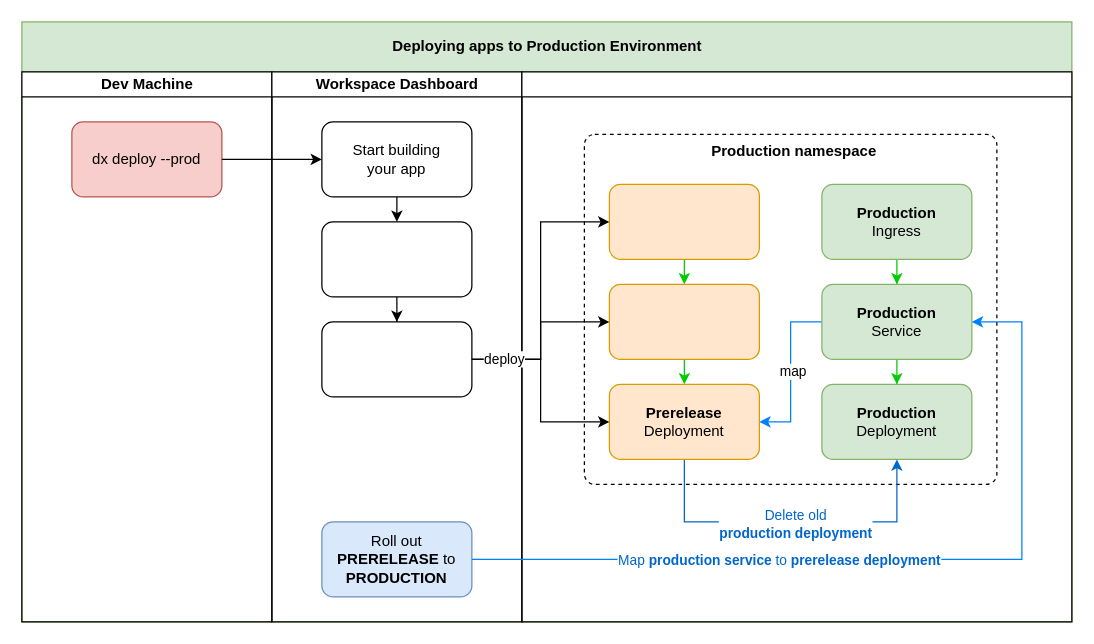
Image size: 1094x644. Some labels were removed from this diagram. The box of each missing label's shape, as (x1, y1, x2, y2) in pixels:
Build app successfully: (321, 221, 472, 297)
Deploy to PRERELEASE environment: (321, 321, 472, 397)
Kubernetes Cluster: (521, 71, 1072, 622)
Prerelease Ingress: (608, 183, 759, 259)
Prerelease Service: (608, 283, 759, 359)
